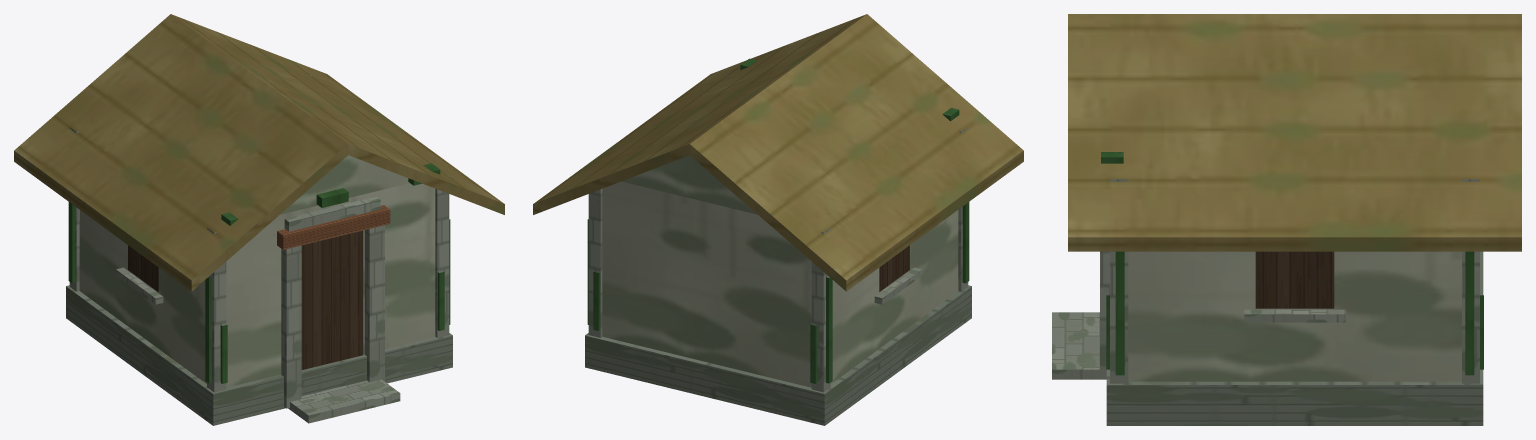
Rendered from ae_jungle_stone_small_hut_lod0.glb.
3 renders of one model, left to right at view 1: azimuth 30°, elevation 25°; view 2: azimuth 150°, elevation 25°; view 3: azimuth 270°, elevation 25°, orthographic. The views are drawn at different scales.
Visible parts, largest first — view 1: ae_jungle_stone_small_hut_lod0; view 2: ae_jungle_stone_small_hut_lod0; view 3: ae_jungle_stone_small_hut_lod0.
Boxes of the visible parts, x1,y1,x2,y2 form: ae_jungle_stone_small_hut_lod0: [14, 14, 504, 425]; ae_jungle_stone_small_hut_lod0: [533, 14, 1023, 425]; ae_jungle_stone_small_hut_lod0: [1052, 14, 1521, 425].
Bounding box in the file's own units: 4.1 × 3.3 × 4.17.
Materials: 1 (1 with a texture image).
